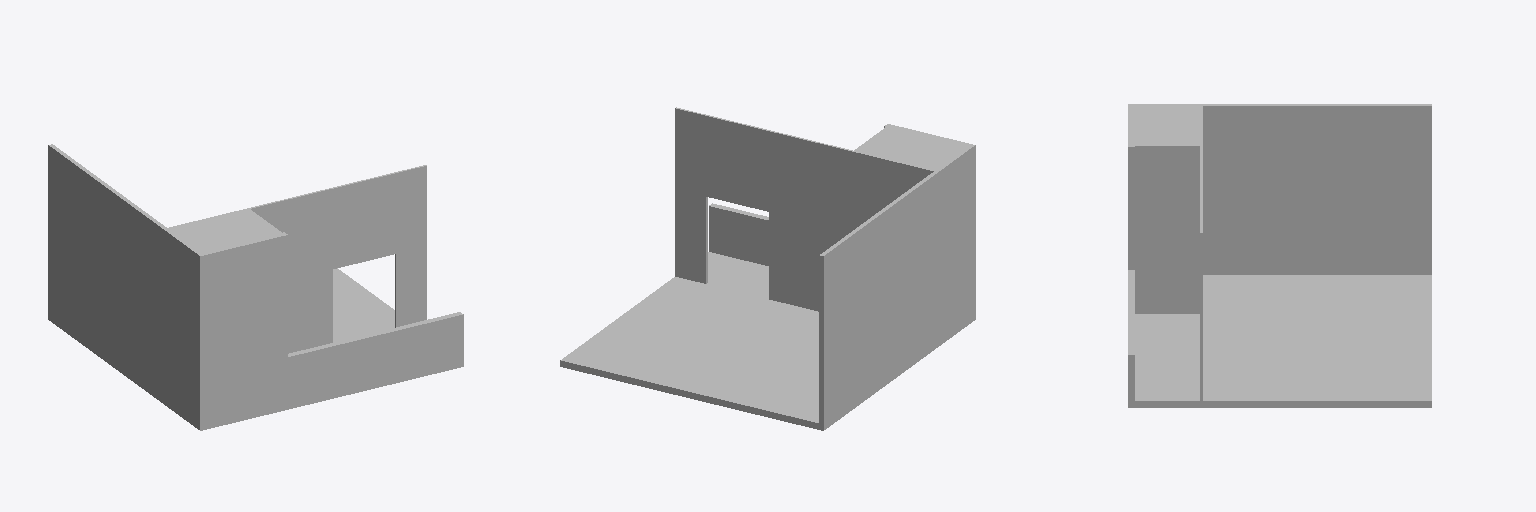
Rendered from 4x2 fourth-4.obj.
The picture shows the model from 3 angles: view 1: azimuth 30°, elevation 25°; view 2: azimuth 150°, elevation 25°; view 3: azimuth 270°, elevation 25°; orthographic projection.
Parts seen in each view (by area): view 1: 4x2 fourth-4; view 2: 4x2 fourth-4; view 3: 4x2 fourth-4.
Part boxes in pixels (x1,y1,x2,y2): 4x2 fourth-4: (48, 144, 463, 430); 4x2 fourth-4: (560, 107, 975, 430); 4x2 fourth-4: (1128, 104, 1431, 407).
Bounding box in the file's own units: 126 × 80 × 126.